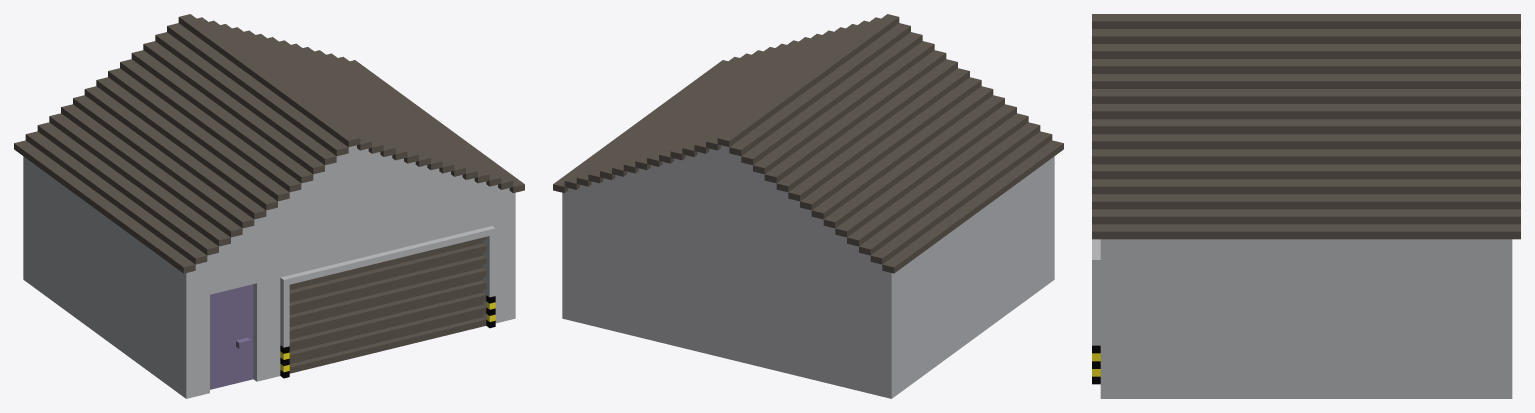
File: warehouse_a.obj
3 views of the same model, side by side, from view 1: azimuth 30°, elevation 25°; view 2: azimuth 150°, elevation 25°; view 3: azimuth 270°, elevation 25° (orthographic). The views are drawn at different scales.
Size of the model in its own units: 5.8 by 3.6 by 5.
1 material, 1 textured.
